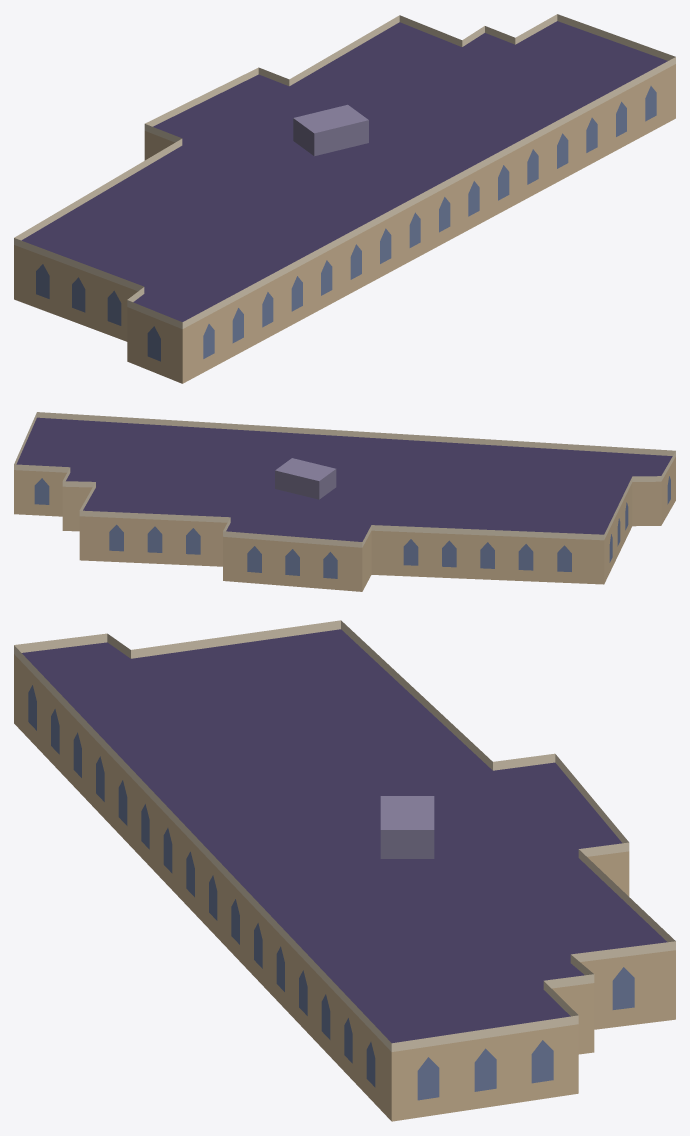
File: b-041-day.glb
3 views of the same model, one above another, from view 1: azimuth 30°, elevation 25°; view 2: azimuth 150°, elevation 25°; view 3: azimuth 270°, elevation 25° (orthographic). The views are drawn at different scales.
Parts seen in each view (by area): view 1: campus/b-041-day-0; view 2: campus/b-041-day-0; view 3: campus/b-041-day-0.
Boxes of the visible parts, x1,y1,x2,y2 form: campus/b-041-day-0: (14,14,675,383); campus/b-041-day-0: (14,412,675,591); campus/b-041-day-0: (14,620,675,1121).
Bounding box in the file's own units: 56.13 × 6.1 × 37.13.
